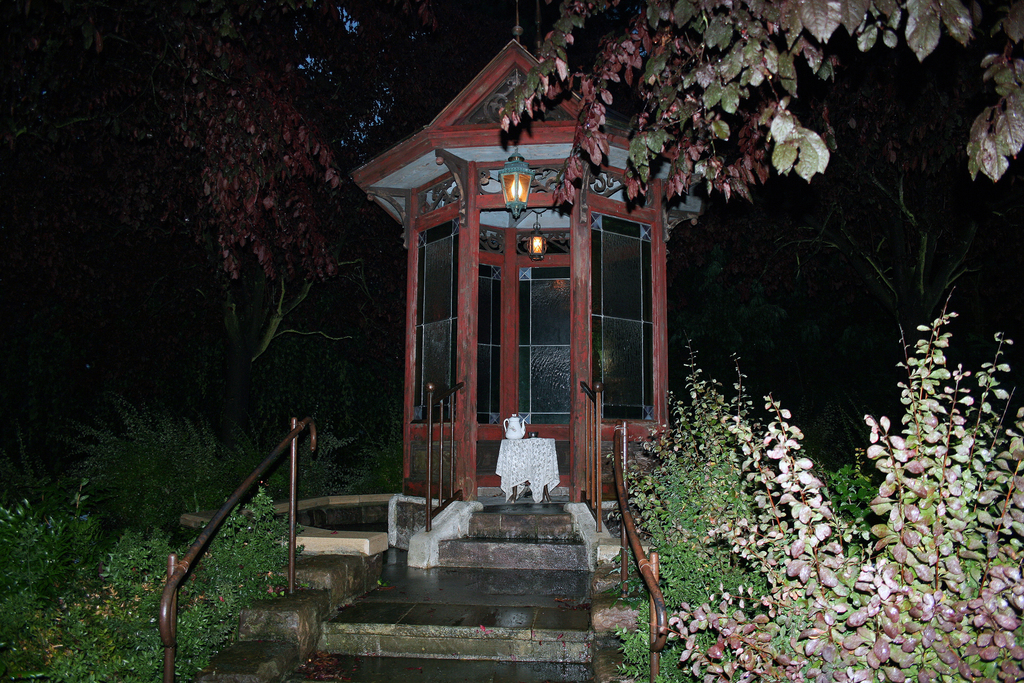Tree: (1, 0, 1023, 496)
